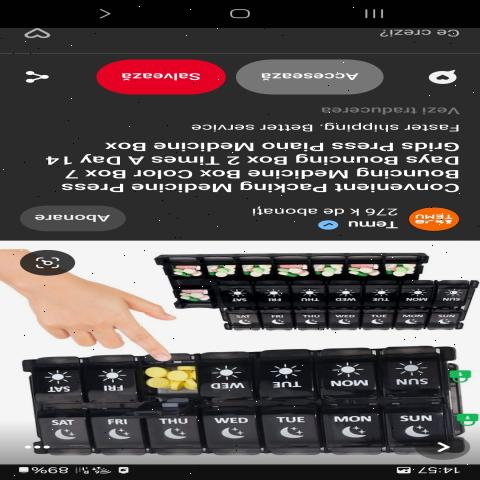PillBox: (1, 350, 467, 458), (130, 247, 478, 339)
